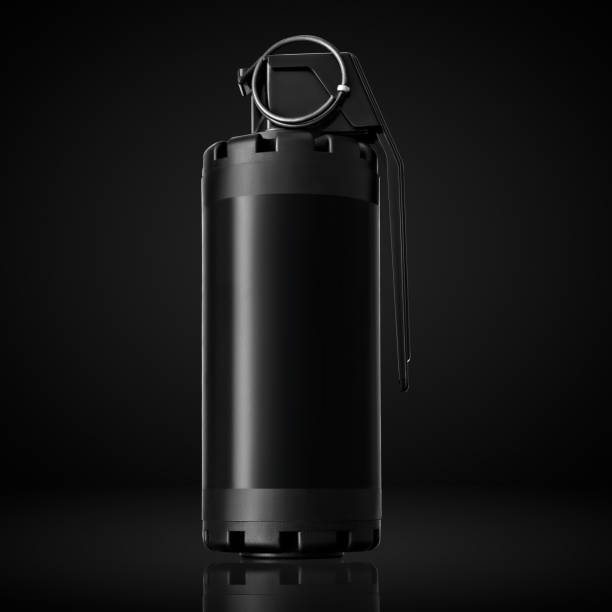e1: (190, 31, 418, 563)
